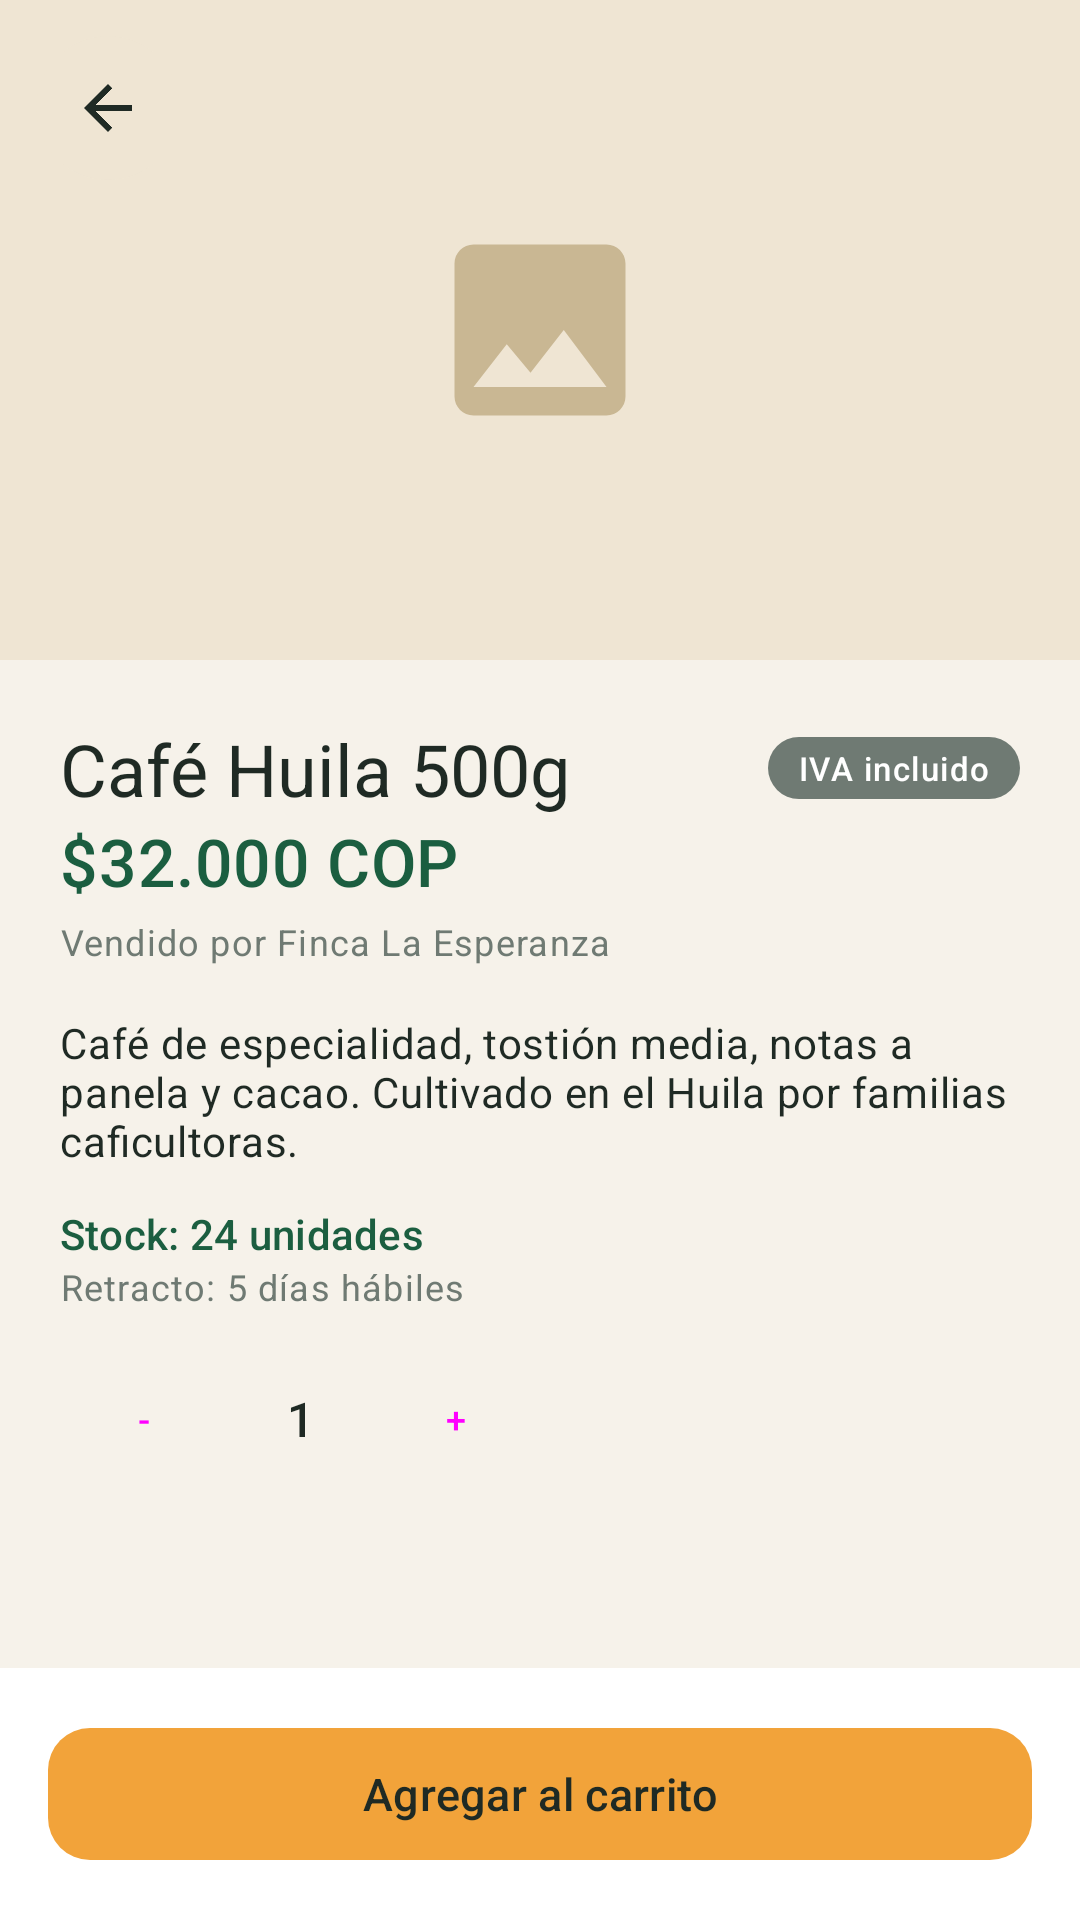

Where icons sit on this 1080px×1920px app screen, as (x1,y1,x2,y2):
Volver: (84,84,132,132)
